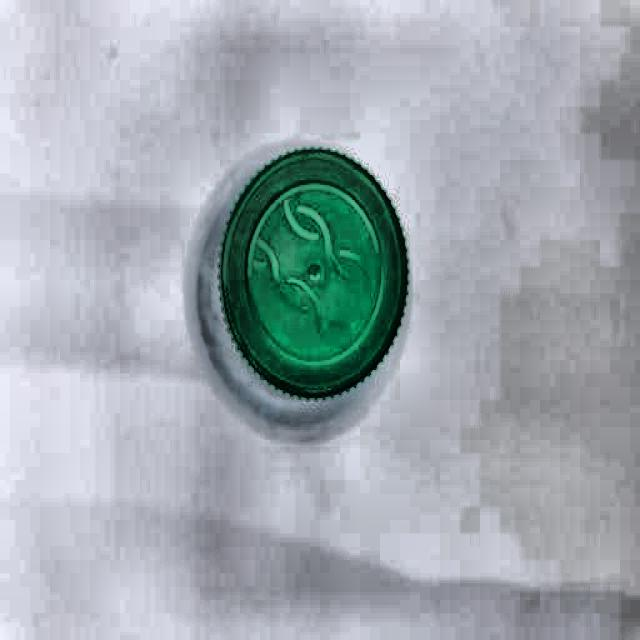plastic: (218, 141, 417, 404)
